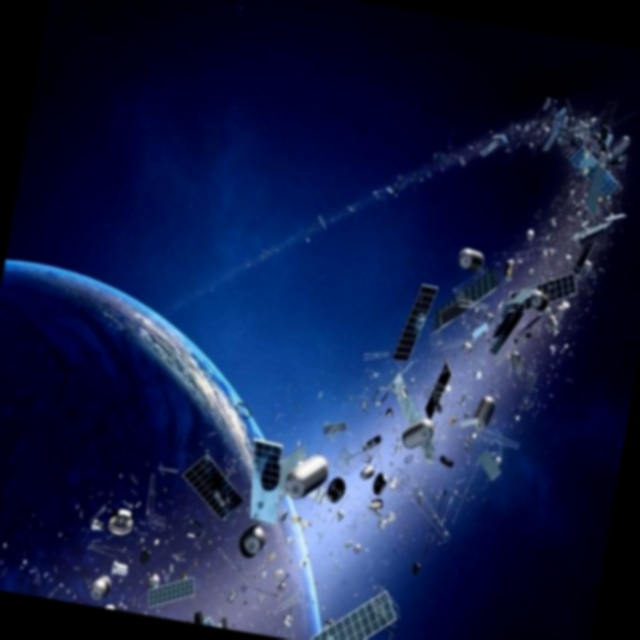large_debris: (369, 353, 454, 469), (379, 464, 464, 545), (429, 255, 503, 343), (307, 574, 404, 640), (174, 448, 252, 526), (560, 140, 626, 222), (238, 435, 293, 528), (389, 274, 441, 368), (506, 262, 582, 317), (143, 566, 200, 617), (283, 448, 332, 505), (574, 204, 628, 249), (489, 301, 527, 363), (422, 357, 456, 426), (399, 412, 442, 455), (468, 391, 499, 445), (234, 520, 271, 562), (478, 126, 514, 165), (592, 94, 619, 144), (104, 503, 138, 539), (271, 584, 305, 620), (474, 446, 506, 484), (545, 298, 572, 341), (573, 238, 596, 287), (454, 245, 489, 277), (86, 567, 116, 603), (269, 568, 291, 613), (502, 348, 531, 381), (608, 130, 633, 166), (320, 415, 350, 442), (325, 474, 348, 505), (364, 496, 390, 521), (369, 468, 389, 499), (109, 556, 131, 581), (502, 255, 519, 284), (358, 461, 377, 482), (438, 450, 457, 470), (138, 545, 154, 568), (410, 560, 426, 577), (459, 340, 475, 356), (296, 556, 308, 571), (473, 368, 485, 382), (525, 228, 536, 243)
